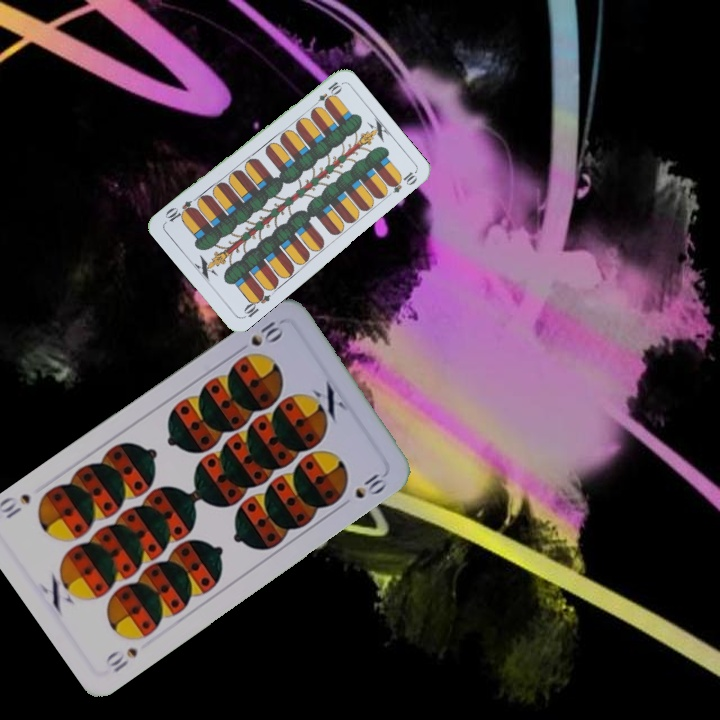E10: (239, 286, 273, 321), (309, 78, 344, 111)
S10: (246, 315, 287, 349), (101, 643, 141, 675)
